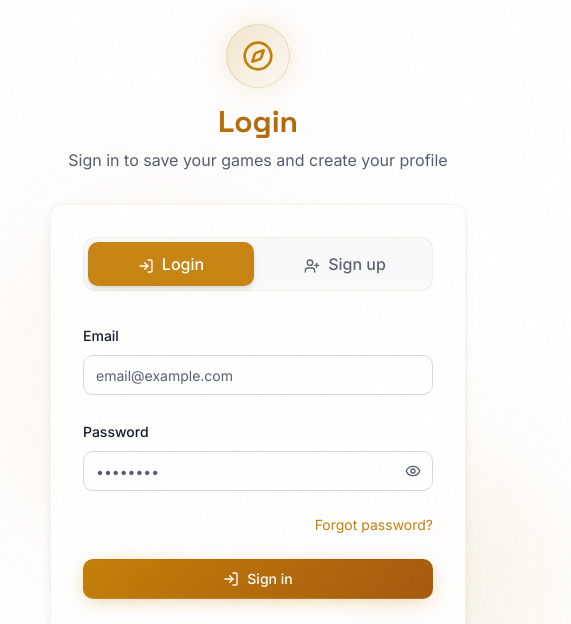
Test: Auth Page › Error Handling › displays server error for invalid credentials
In the field labelled "Email": [258, 375] box [83, 355, 433, 395], type "test@example.com"
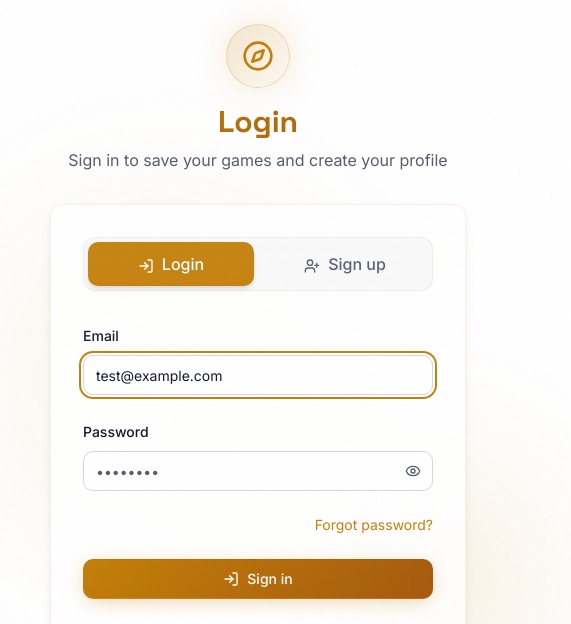
In the password field labelled "Password": [258, 471] box [83, 451, 433, 491], type "ValidPass1"
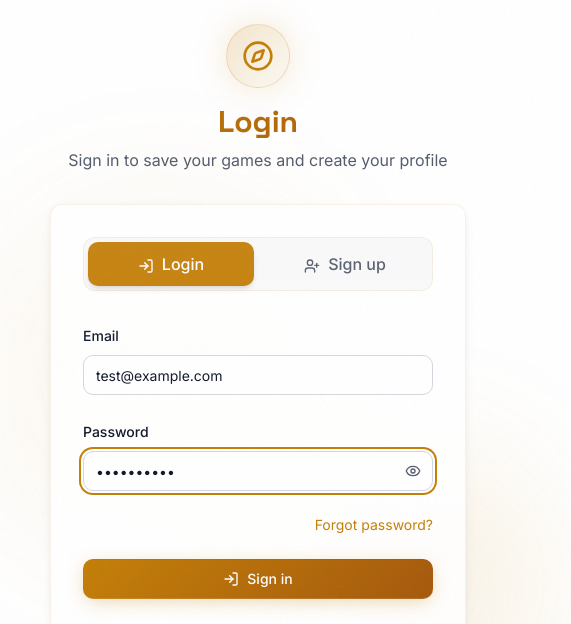
Click the button "Sign in": [258, 579] box [83, 559, 433, 599]
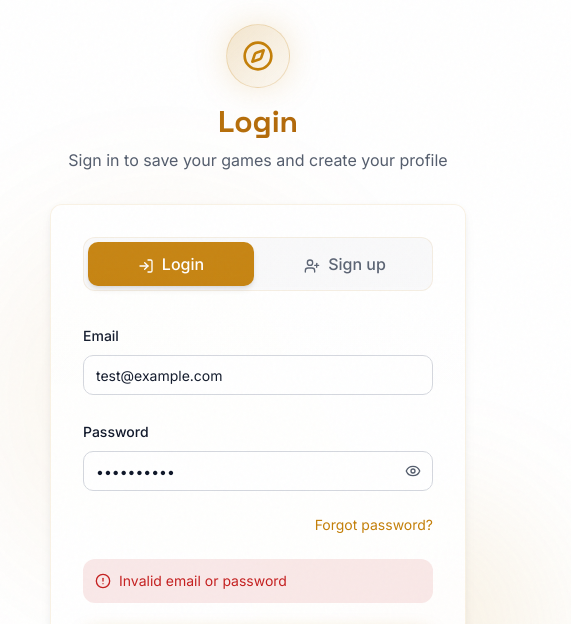
Now the text "Invalid email or password" is shown, box [119, 571, 287, 591]
